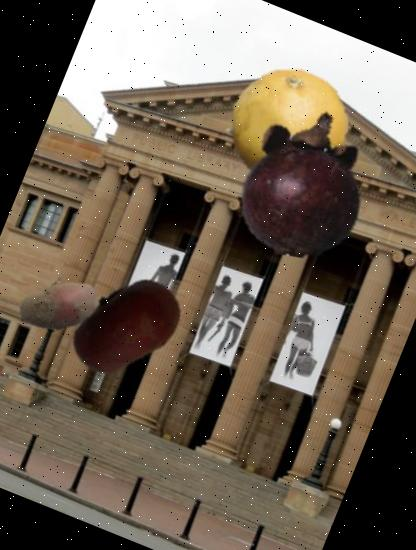Grapefruit: (206, 47, 366, 208)
Mangostan: (206, 86, 400, 280)
Nectarine: (54, 254, 202, 402)
Potato: (3, 249, 112, 358)
